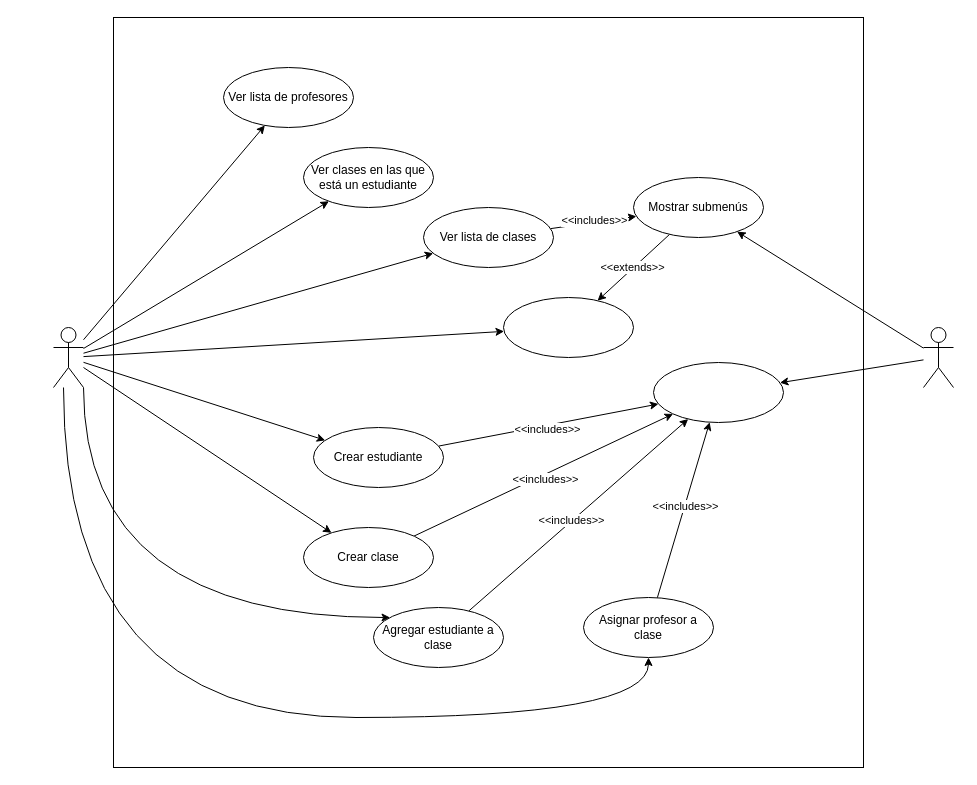
This 977x785 diagram has some shape labels left out. Here are the shapes that lost their labels. From the top down, the centre of each, then its label:
At point 568,327: "Ver información de las clases".
At point 68,357: "Rector Universidad".
At point 938,357: "Sistema".
At point 718,392: "Modificar listas".
